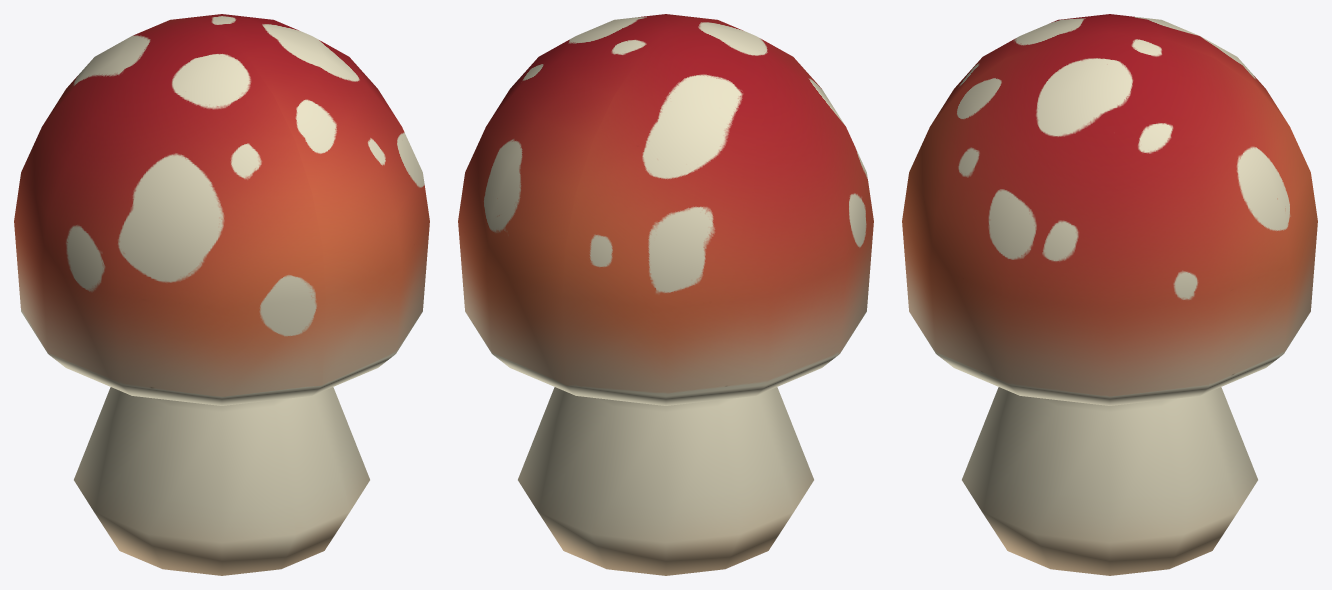
3 renders of one model, left to right at view 1: azimuth 30°, elevation 25°; view 2: azimuth 150°, elevation 25°; view 3: azimuth 270°, elevation 25°, orthographic.
Visible parts, largest first — view 1: pSphere1; view 2: pSphere1; view 3: pSphere1.
Part boxes in pixels (<box>): pSphere1: <box>14,14,429,575</box>; pSphere1: <box>458,14,873,575</box>; pSphere1: <box>902,14,1317,575</box>.
Size of the model in its own units: 2 by 2.62 by 2.
Materials: 1 (1 with a texture image).
